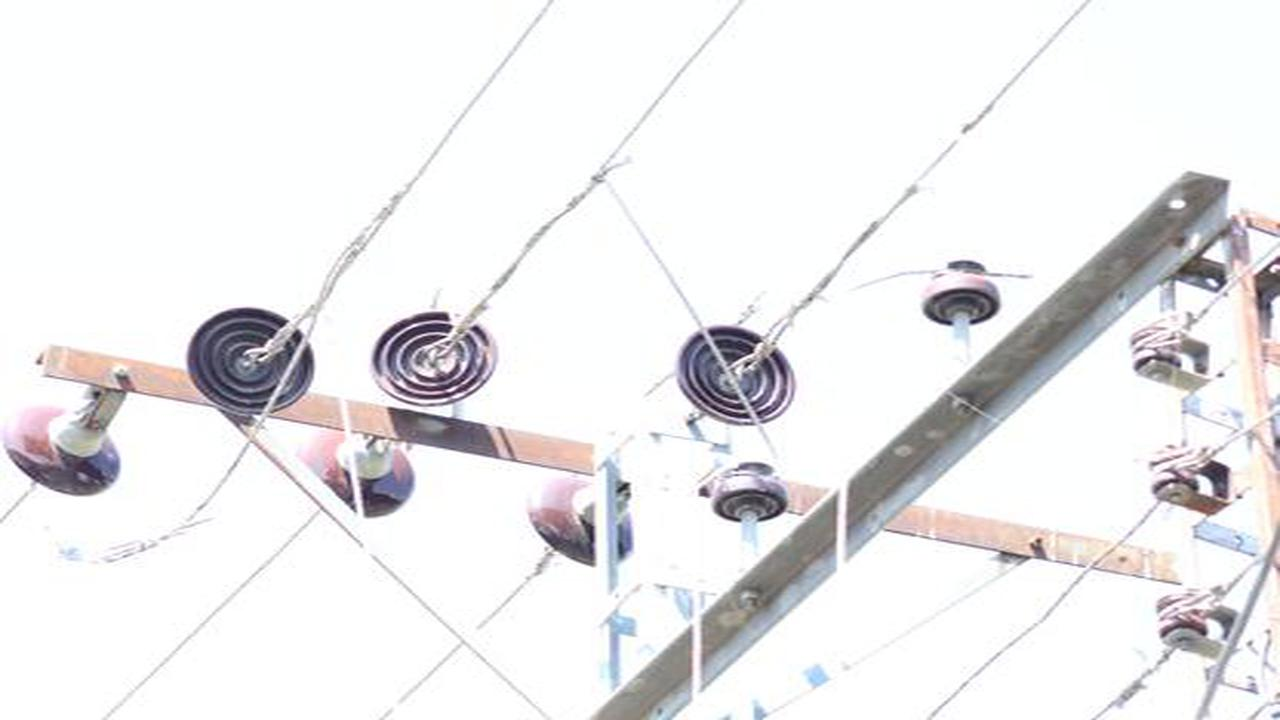insulator_disc: (178, 298, 317, 419), (368, 301, 505, 415), (673, 318, 802, 432), (515, 465, 643, 569), (5, 392, 128, 499), (296, 427, 422, 523)
insulator_pin: (917, 256, 1005, 330), (705, 453, 792, 524)
